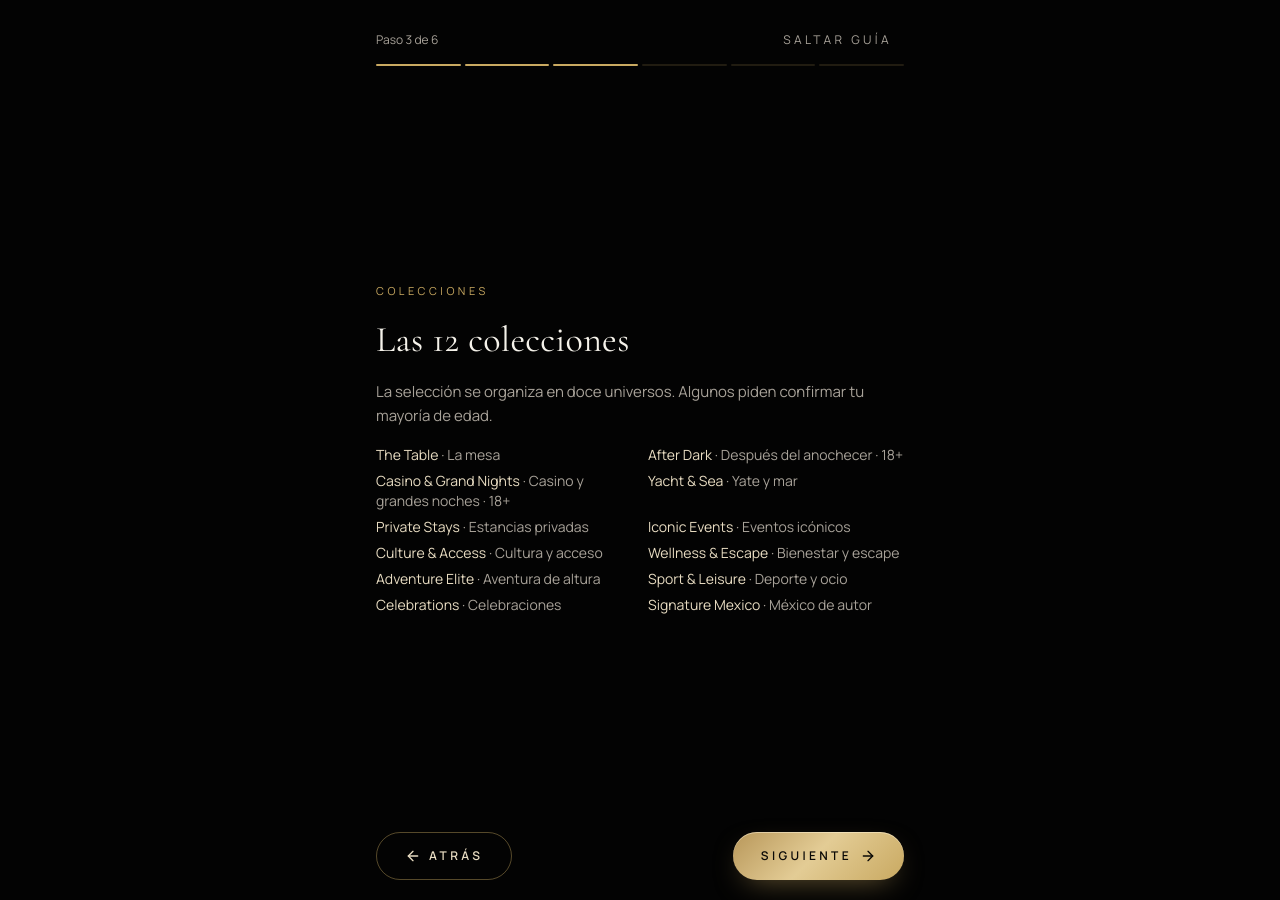
Test: guía de inicio › reanuda en el paso guardado; Siguiente/Atrás guardan el avance en el servidor
Expected: the text with test id "prive-onb-progress" reads "Paso 3 de 6", [376,31,438,48]
Expected: the heading "Las 12 colecciones" is shown, [376,318,630,361]
Click the button "Siguiente" at (818, 856), box [733,832,904,880]
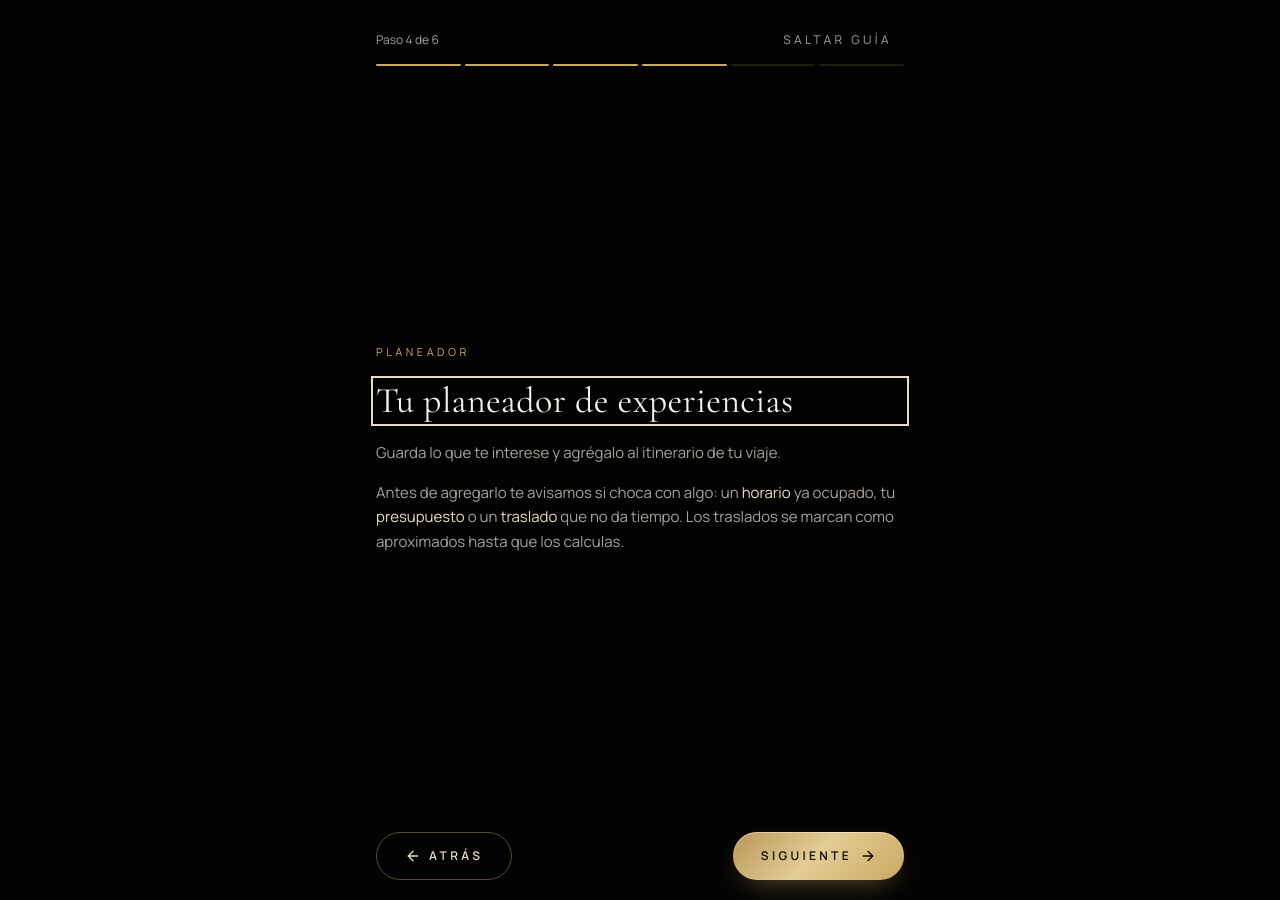
Expected: the text with test id "prive-onb-progress" reads "Paso 4 de 6", [376,31,439,48]
Click the button with aria-label "Paso anterior" at (444, 856), box [376,832,512,880]
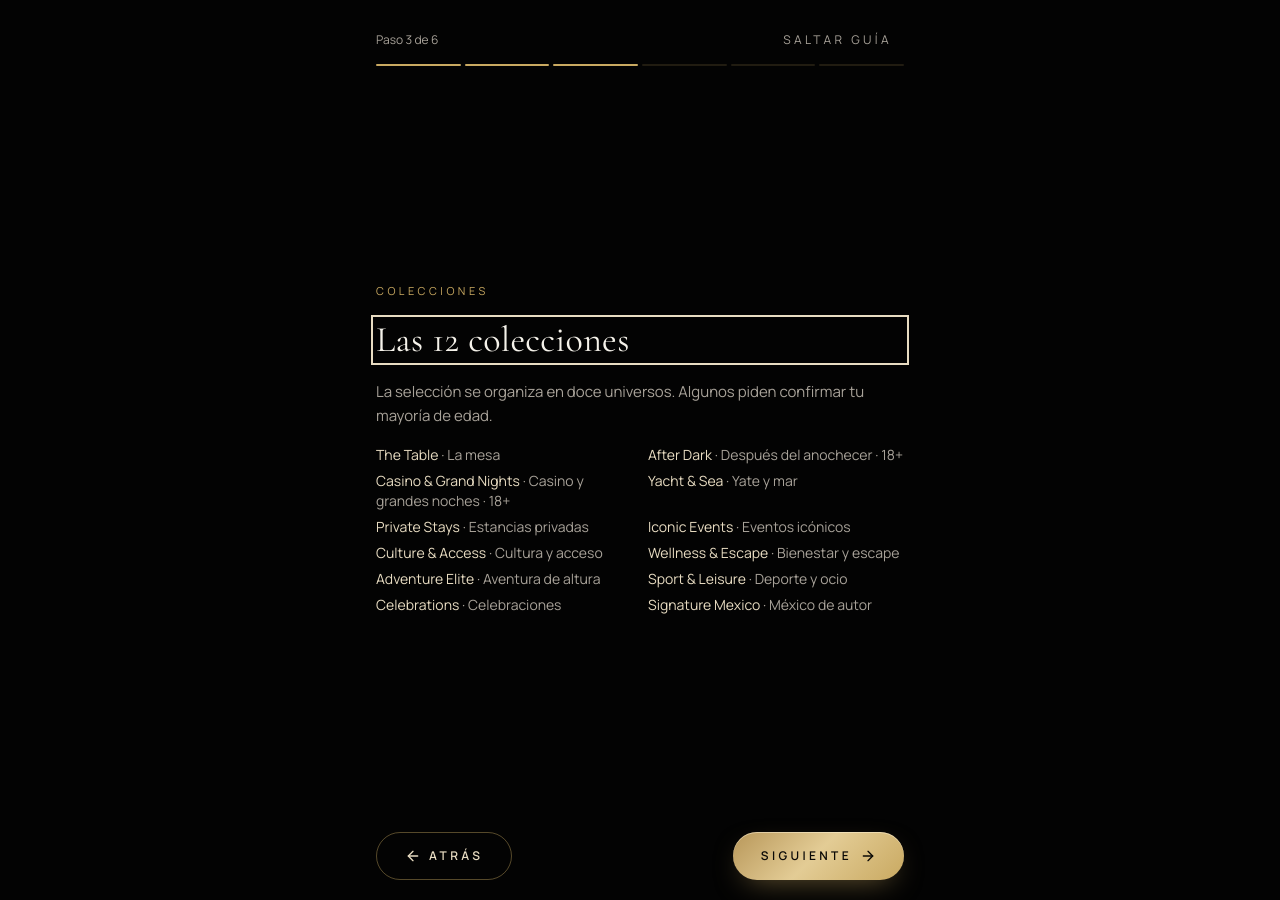
Expected: the text with test id "prive-onb-progress" reads "Paso 3 de 6", [376,31,438,48]
